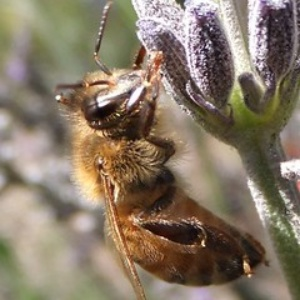bee: (49, 2, 266, 300)
